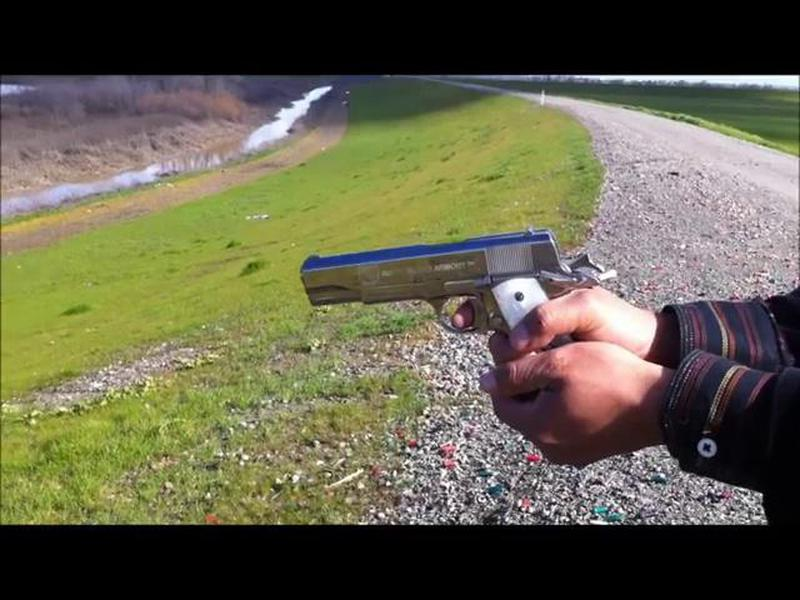Pistola: (281, 212, 609, 404)
